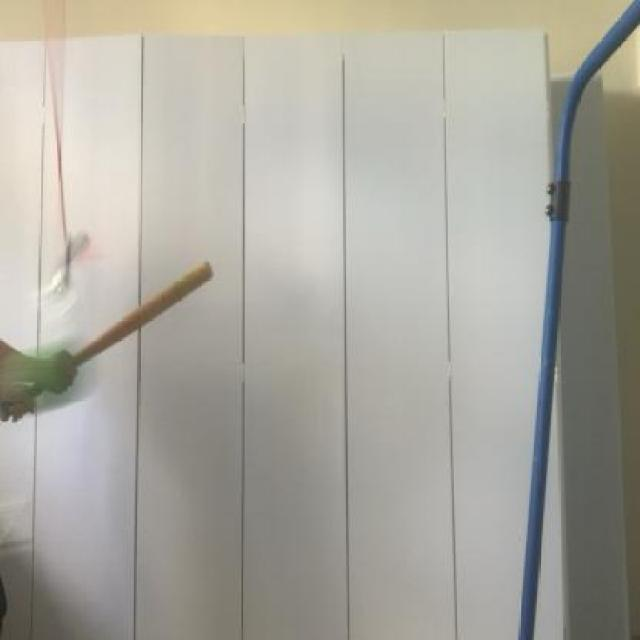baseball: (0, 334, 105, 418)
